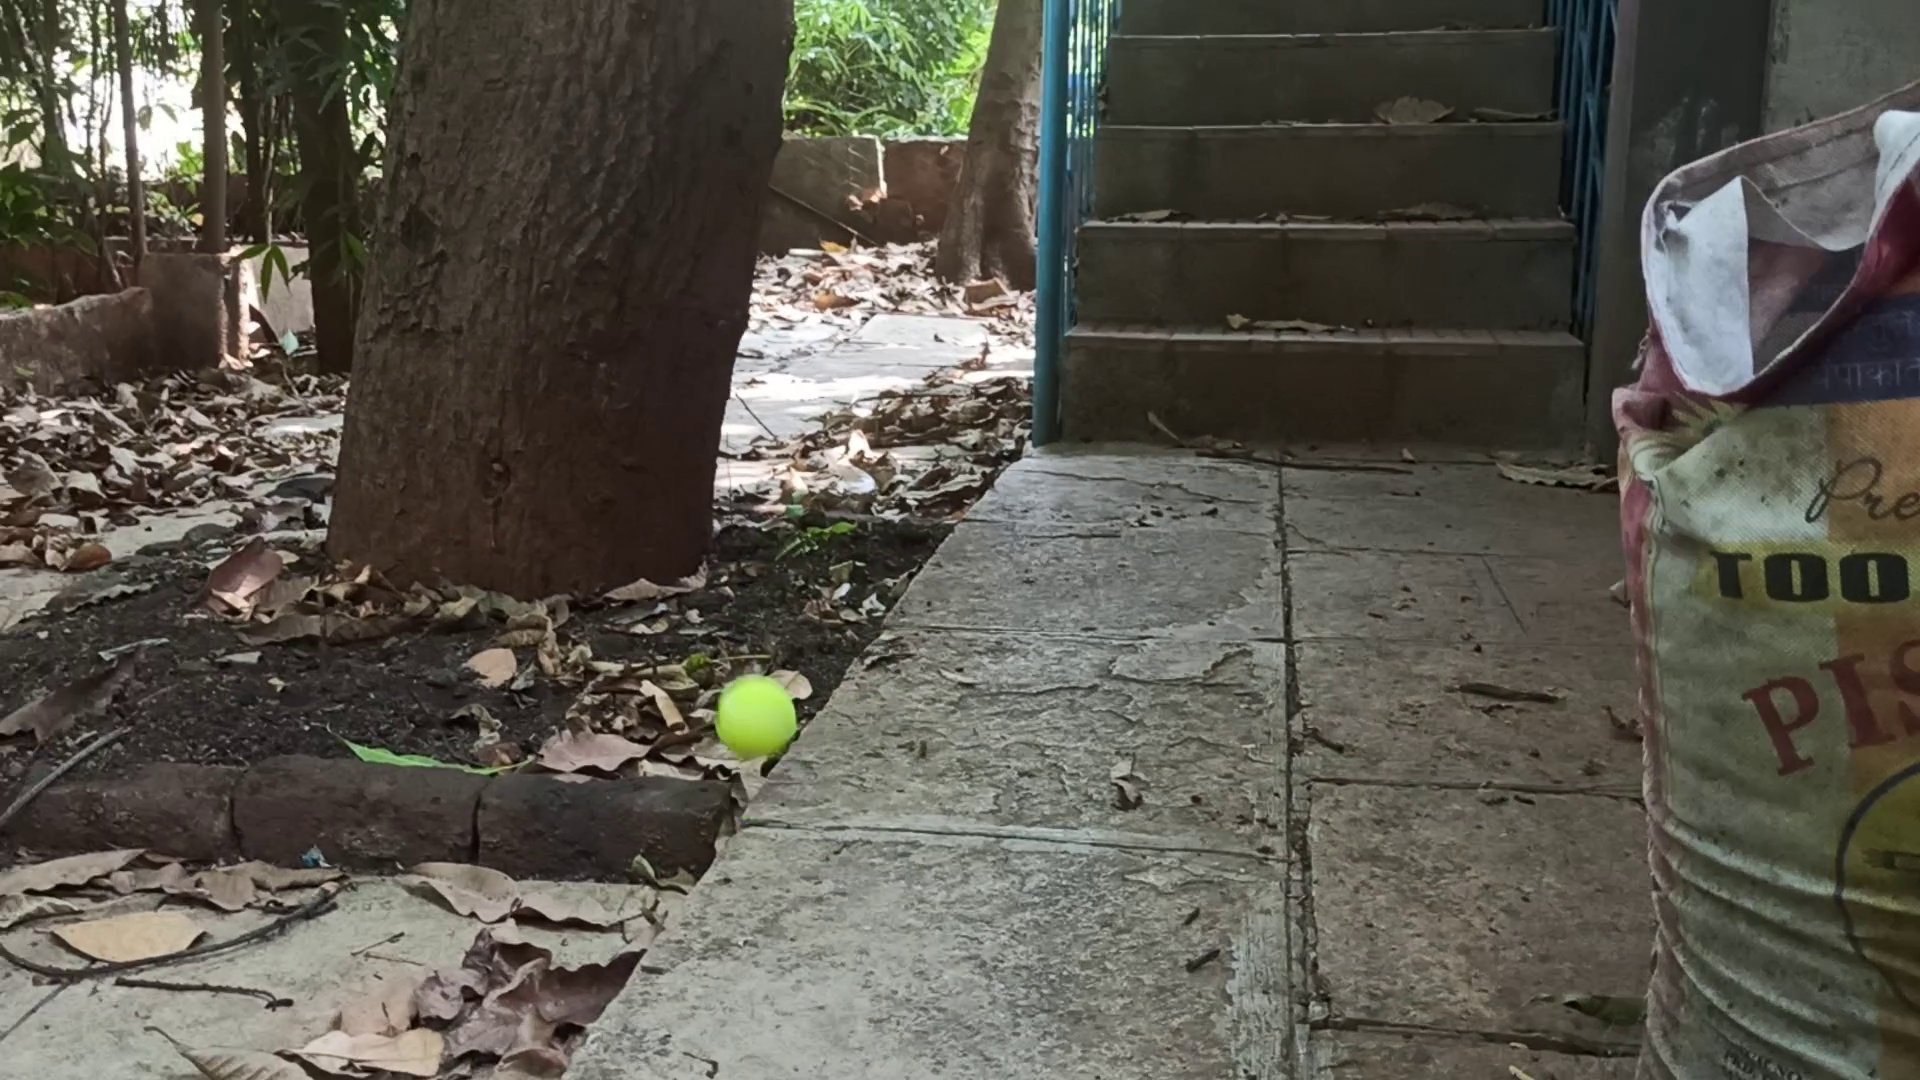Tennis-Ball: (717, 675, 795, 756)
